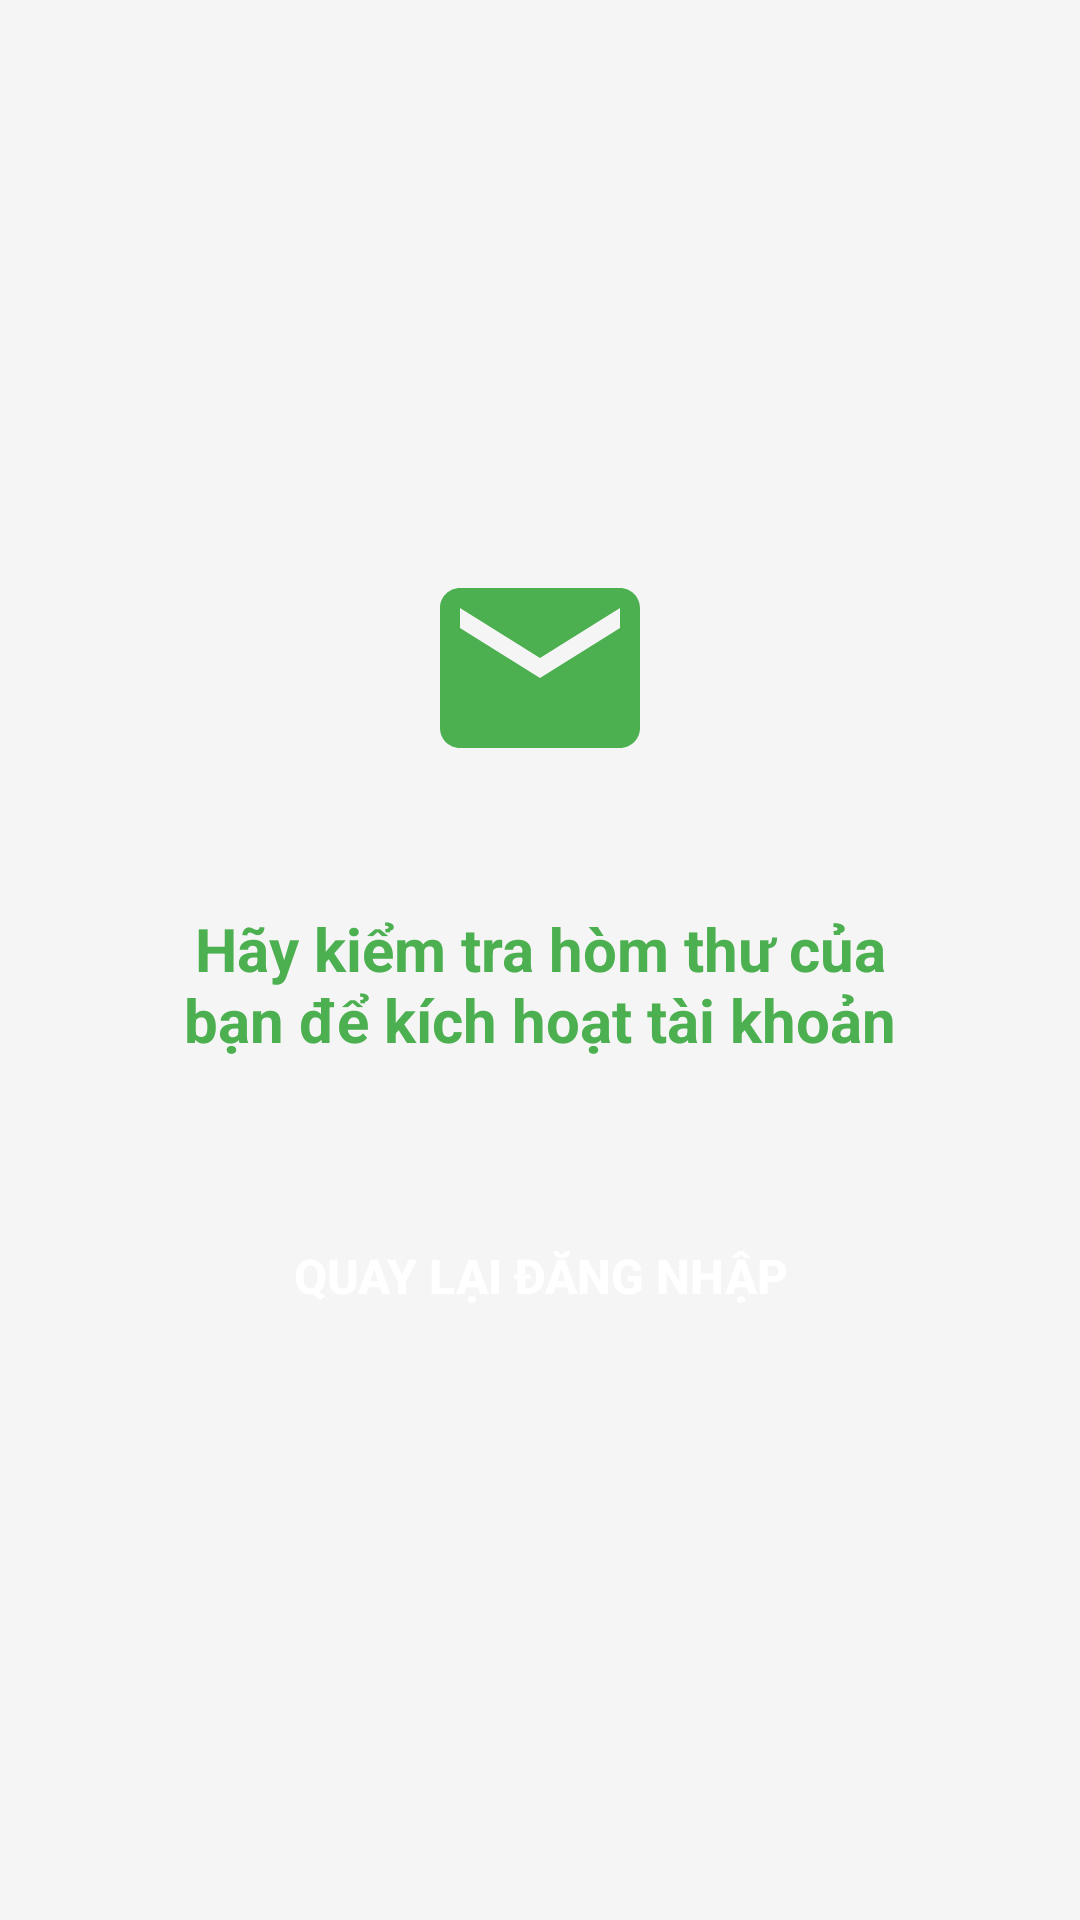

Icon click points for this 1080px×1920px phone screenshot, format (x,y):
Email Icon: (540,668)
